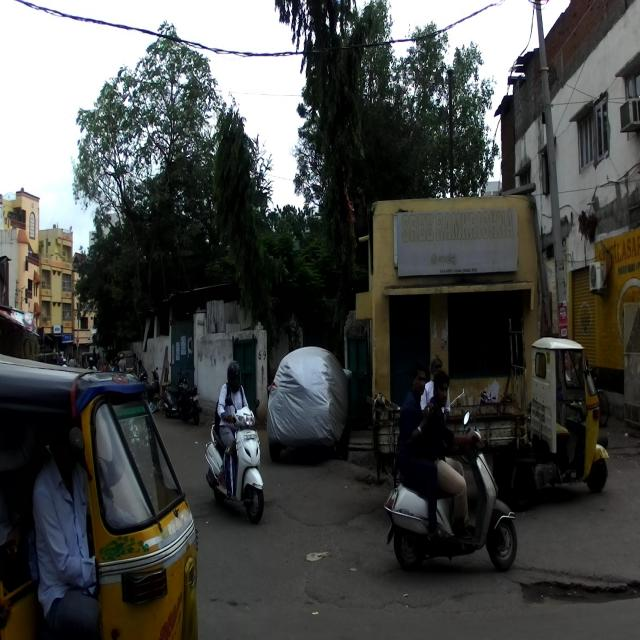autorickshaw: (0, 346, 200, 638)
car: (265, 345, 353, 462)
scooter: (383, 410, 517, 572), (204, 398, 265, 524)
